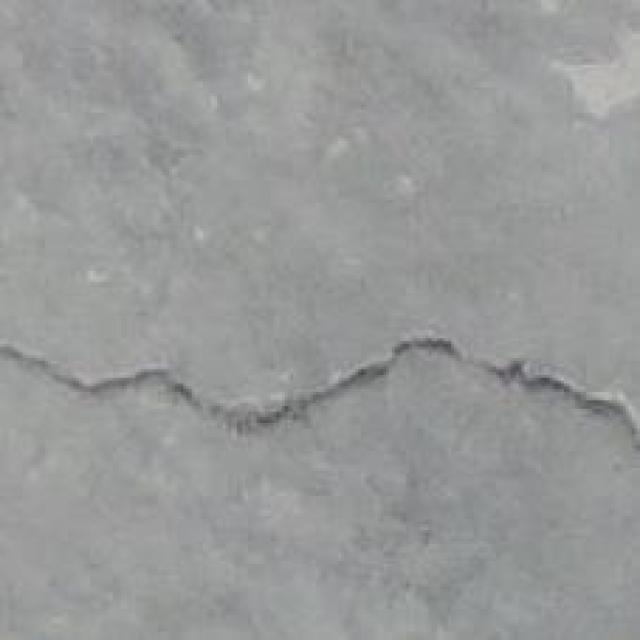Crack: (0, 327, 637, 443)
